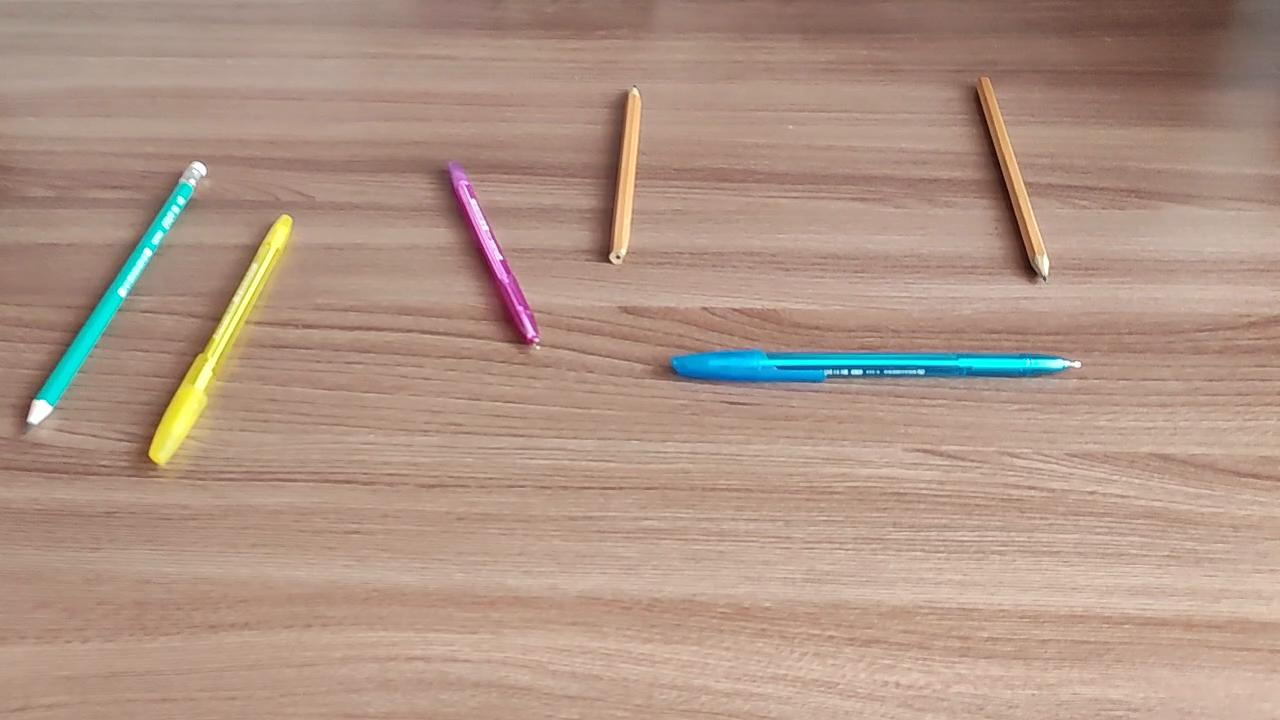pen: (146, 212, 301, 468), (444, 159, 546, 354), (665, 346, 1085, 383)
pencil: (20, 155, 214, 435), (969, 72, 1052, 282), (604, 80, 646, 265)
